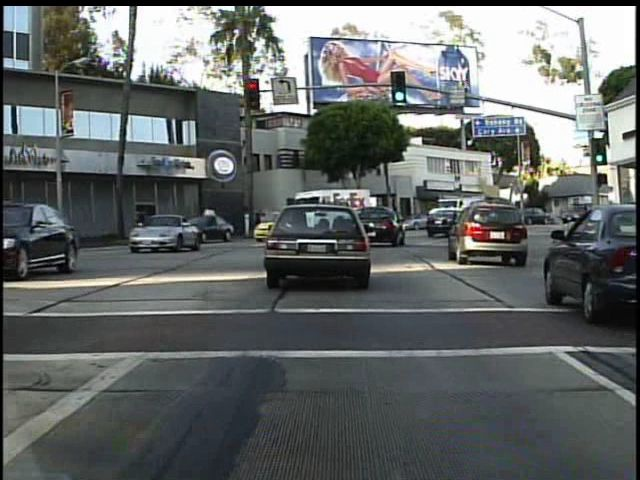person: (253, 204, 268, 239)
